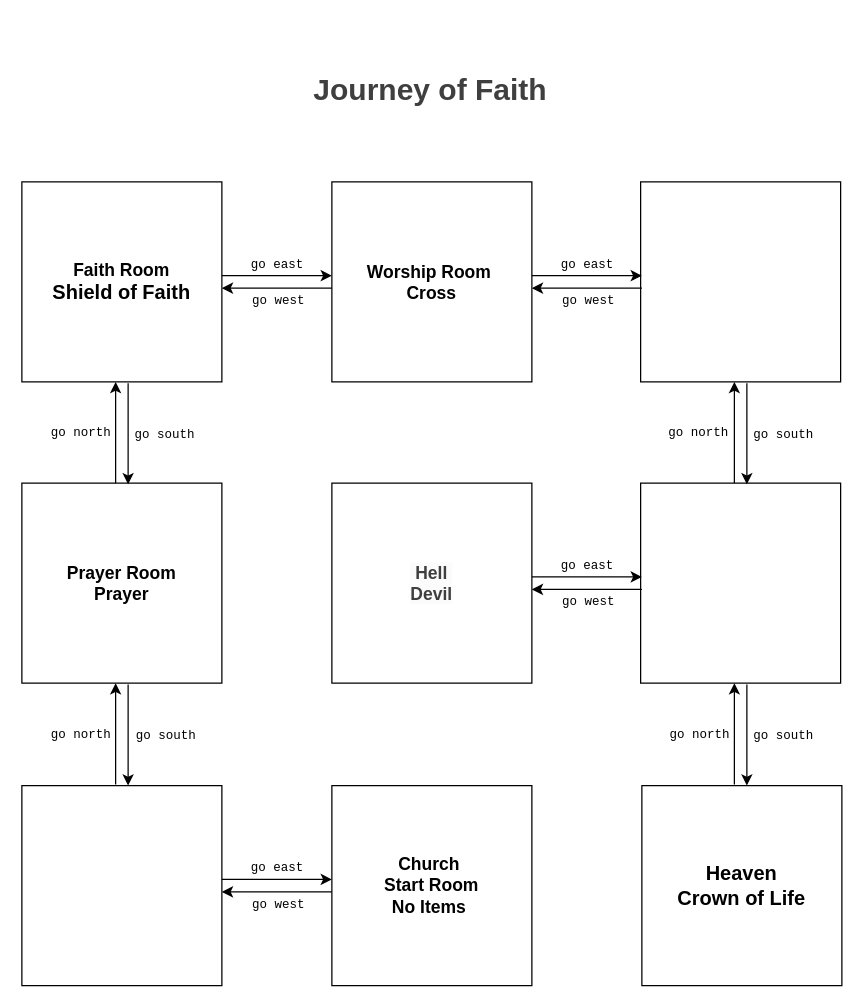
Some shapes in this 864 by 1008 pixel diagram are drawn without their labels. The shapes that lost their labels are listed below. From the top down, each one's box as (x1, y1, x2, y2) in pixels, then its label:
(639, 181, 841, 382): Armor Room Armor of God
(639, 482, 841, 683): Light Room Lamp
(21, 784, 222, 986): Bible Study Room Bible
